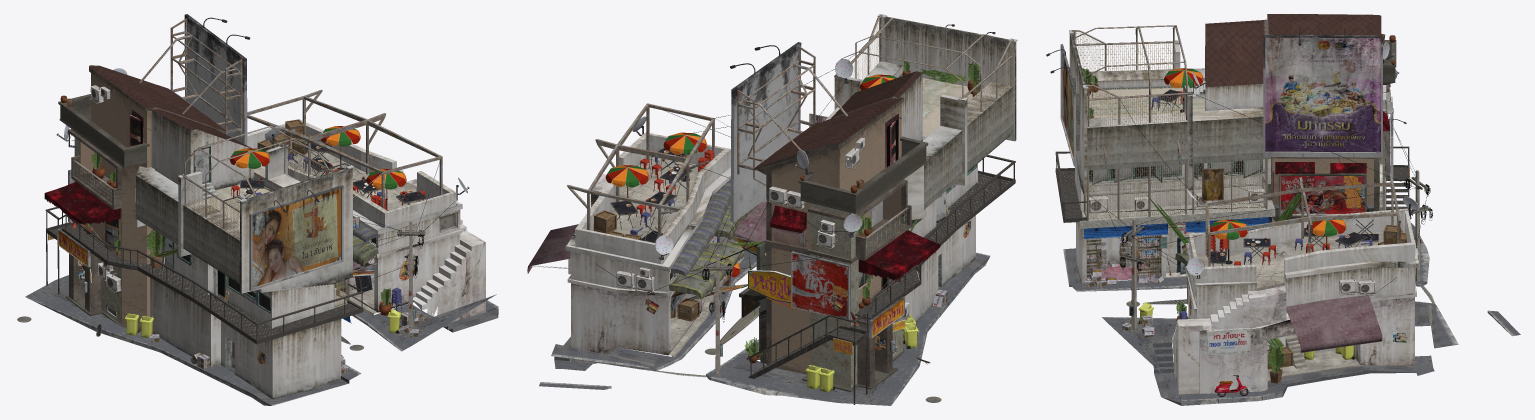
File: shophouses.glb
3 views of the same model, side by side, from view 1: azimuth 30°, elevation 25°; view 2: azimuth 150°, elevation 25°; view 3: azimuth 270°, elevation 25° (orthographic). The views are drawn at different scales.
Visible parts, largest first — view 1: house2_Material #41_0, house2_Material #284_0, house2_Material #58_0, house3_Material #2_0, Box063_Material #424_0, house1_Material #44_0, house3_Material #15_0, house1_Material #97_0, Object011_Material #17_0, house2_Material #42_0, house1_Material #96_0, house2_Material #43_0 (+21 smaller); view 2: house2_Material #41_0, Object011_Material #17_0, Box063_Material #424_0, house3_Material #15_0, house1_Material #44_0, house2_Material #58_0, house3_Material #2_0, house1_Material #96_0, house1_Material #97_0, house1_Material #66_0, house1_wall backside_0, house2_Material #42_0 (+24 smaller); view 3: Object011_Material #17_0, house3_Material #15_0, house2_Material #41_0, house3_Material #2_0, Box063_Material #424_0, fences_Material #59_0, house2_Material #42_0, house2_Material #43_0, house2_Material #58_0, house3_Material #14_0, house3_Material #453_0, house1_Material #66_0 (+22 smaller).
Part boxes in pixels (bbox=[...]): house2_Material #41_0: bbox=[135, 110, 352, 399]; house2_Material #284_0: bbox=[249, 185, 359, 323]; house2_Material #58_0: bbox=[66, 18, 442, 307]; house3_Material #2_0: bbox=[338, 179, 485, 322]; Box063_Material #424_0: bbox=[25, 275, 498, 405]; house1_Material #44_0: bbox=[80, 73, 173, 330]; house3_Material #15_0: bbox=[247, 120, 462, 257]; house1_Material #97_0: bbox=[45, 207, 363, 344]; Object011_Material #17_0: bbox=[57, 14, 247, 267]; house2_Material #42_0: bbox=[135, 175, 254, 283]; house1_Material #96_0: bbox=[68, 65, 226, 311]; house2_Material #43_0: bbox=[89, 65, 251, 148]; house2_Material #41_0: bbox=[825, 16, 1016, 322]; Object011_Material #17_0: bbox=[730, 42, 904, 338]; Box063_Material #424_0: bbox=[539, 242, 990, 405]; house3_Material #15_0: bbox=[565, 132, 730, 296]; house1_Material #44_0: bbox=[771, 103, 901, 374]; house2_Material #58_0: bbox=[567, 14, 1013, 294]; house3_Material #2_0: bbox=[568, 174, 738, 363]; house1_Material #96_0: bbox=[753, 98, 911, 386]; house1_Material #97_0: bbox=[746, 155, 1015, 404]; house1_Material #66_0: bbox=[616, 156, 940, 354]; house1_wall backside_0: bbox=[810, 203, 902, 388]; house2_Material #42_0: bbox=[924, 86, 1013, 209]; Object011_Material #17_0: bbox=[1072, 35, 1393, 196]; house3_Material #15_0: bbox=[1185, 208, 1419, 364]; house2_Material #41_0: bbox=[1069, 33, 1270, 283]; house3_Material #2_0: bbox=[1172, 272, 1414, 395]; Box063_Material #424_0: bbox=[1063, 210, 1520, 405]; fences_Material #59_0: bbox=[1075, 32, 1265, 219]; house2_Material #42_0: bbox=[1087, 117, 1270, 170]; house2_Material #43_0: bbox=[1205, 14, 1381, 87]; house2_Material #58_0: bbox=[1071, 25, 1400, 304]; house3_Material #14_0: bbox=[1188, 232, 1415, 393]; house3_Material #453_0: bbox=[1185, 265, 1382, 352]; house1_Material #66_0: bbox=[1275, 96, 1419, 296].
Bounding box in the file's own units: 3008 × 2135 × 3196.
Materials: 50 (48 with a texture image).
